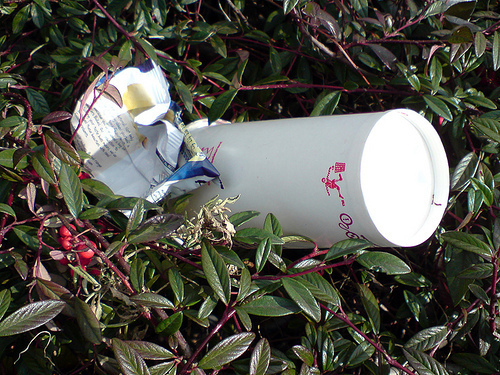litter: (187, 108, 451, 247), (70, 53, 208, 221)
